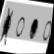correct: (27, 16, 40, 40)
not correct: (0, 6, 14, 46)
